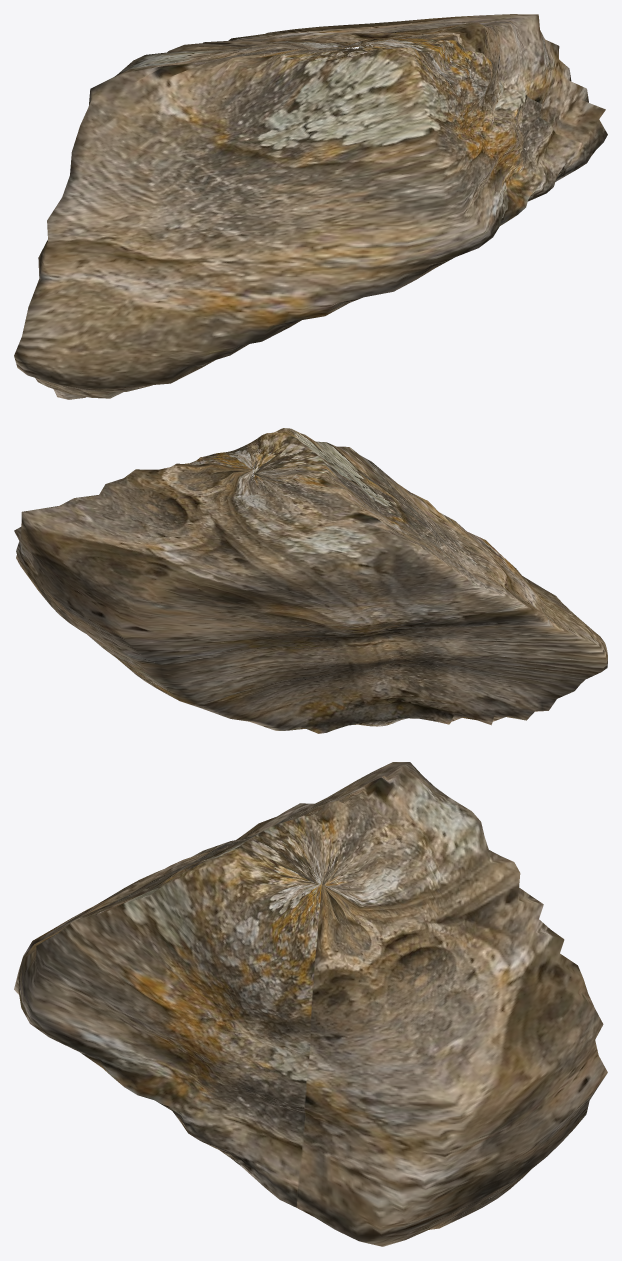
Rendered from limestone_spall.glb.
The picture shows the model from 3 angles, top to bottom: view 1: azimuth 30°, elevation 25°; view 2: azimuth 150°, elevation 25°; view 3: azimuth 270°, elevation 25°; orthographic projection. The views are drawn at different scales.
Visible parts, largest first — view 1: limestone_spall; view 2: limestone_spall; view 3: limestone_spall.
Boxes of the visible parts, <box> form: limestone_spall: <box>14,14,607,399</box>; limestone_spall: <box>14,428,607,733</box>; limestone_spall: <box>14,762,607,1246</box>.
Size of the model in its own units: 1.31 by 0.5413 by 0.8302.
Materials: 1 (1 with a texture image).
